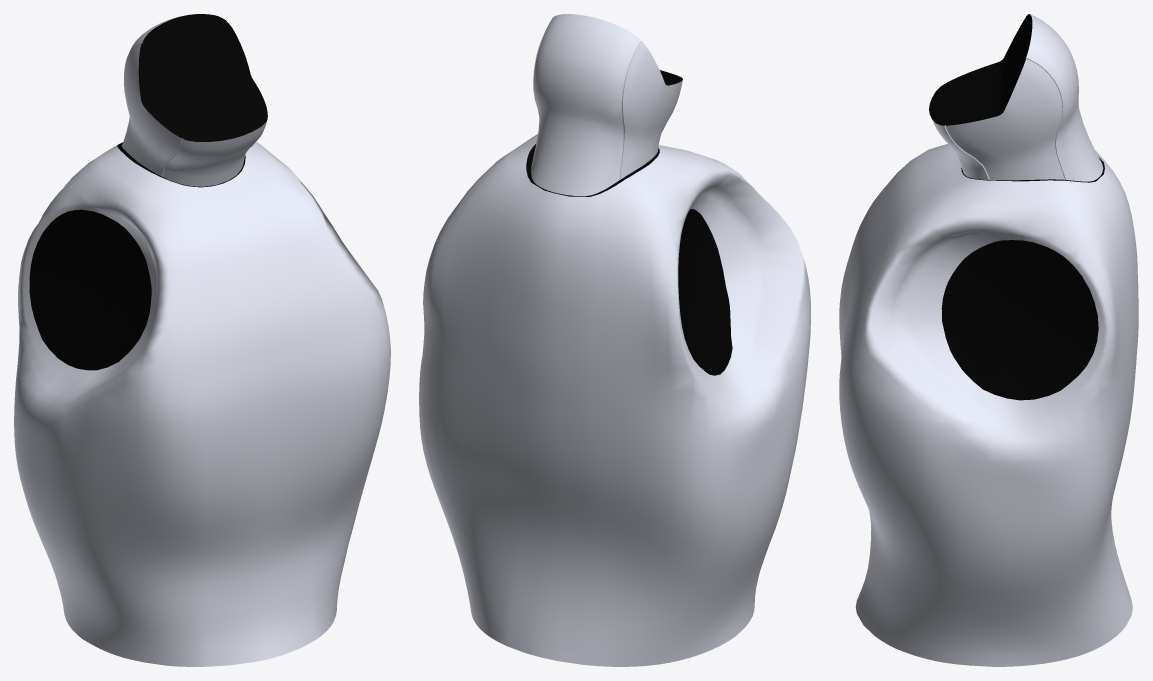
The model's file is torso.obj.
The picture shows the model from 3 angles, left to right: view 1: azimuth 30°, elevation 25°; view 2: azimuth 150°, elevation 25°; view 3: azimuth 270°, elevation 25°; orthographic projection. The views are drawn at different scales.
Visible parts, largest first — view 1: torso; view 2: torso; view 3: torso.
Part boxes in pixels (bbox=[...]): torso: bbox=[14, 14, 390, 666]; torso: bbox=[419, 14, 810, 666]; torso: bbox=[839, 14, 1138, 666].
Size of the model in its own units: 0.2994 by 0.5356 by 0.2481.
1 material, 1 textured.
